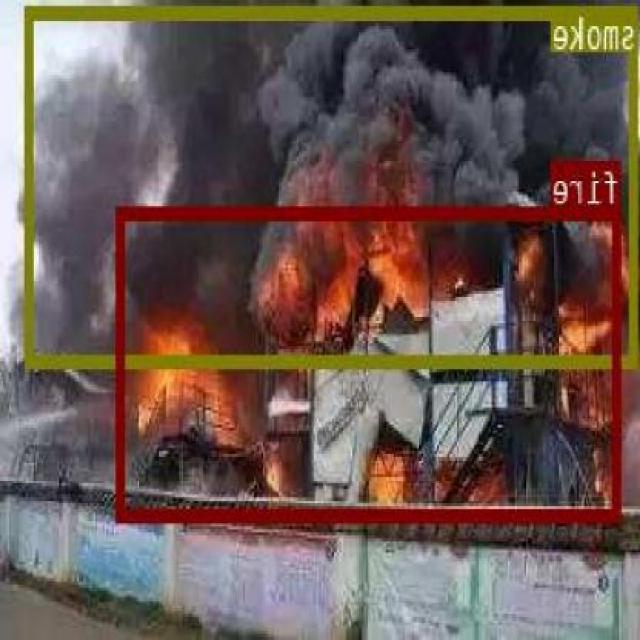Fire: (116, 196, 636, 508)
Smoke: (12, 0, 640, 405)
